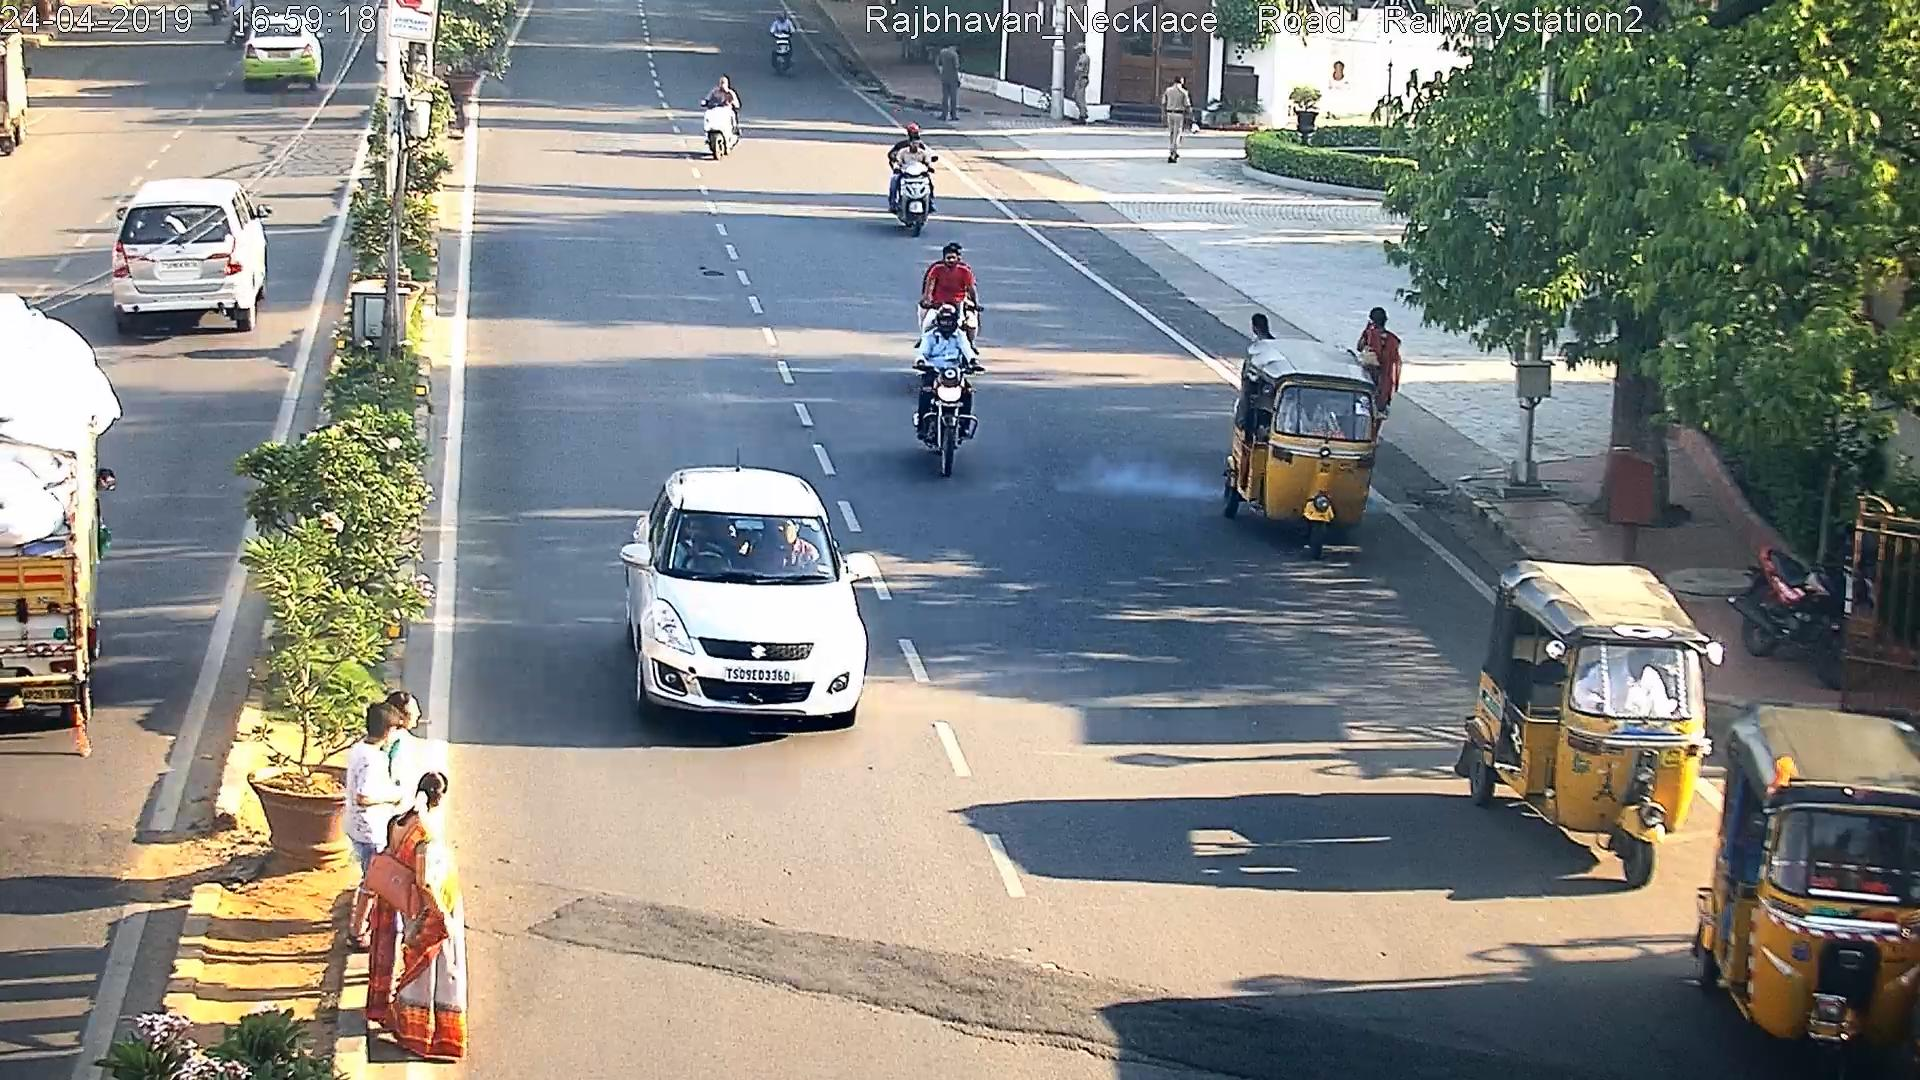2Wheeler: (913, 305, 981, 476), (887, 123, 936, 233), (702, 73, 744, 161)
